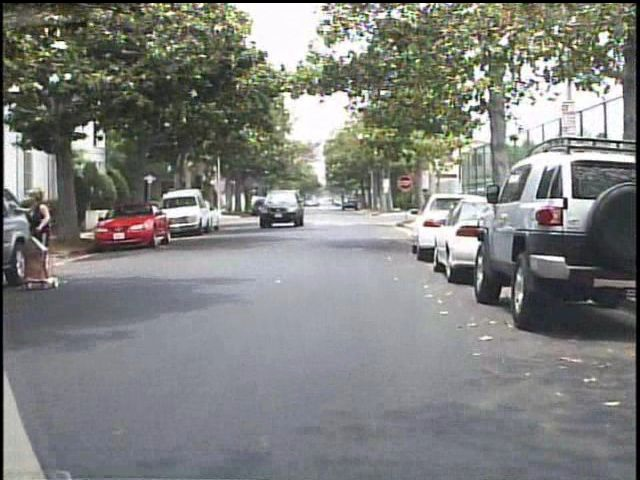person: (28, 185, 69, 293)
